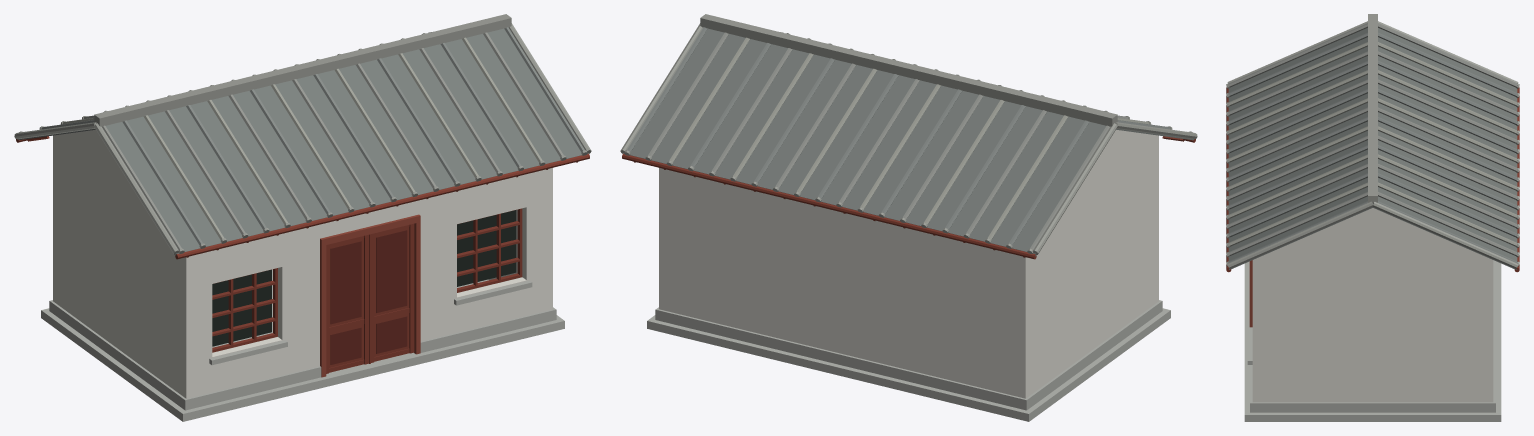
The model's file is chongming-east-guanting-lod.glb.
3 renders of one model, left to right at view 1: azimuth 30°, elevation 25°; view 2: azimuth 150°, elevation 25°; view 3: azimuth 270°, elevation 25°, orthographic. The views are drawn at different scales.
Size of the model in its own units: 11.05 by 6.5 by 7.44.
